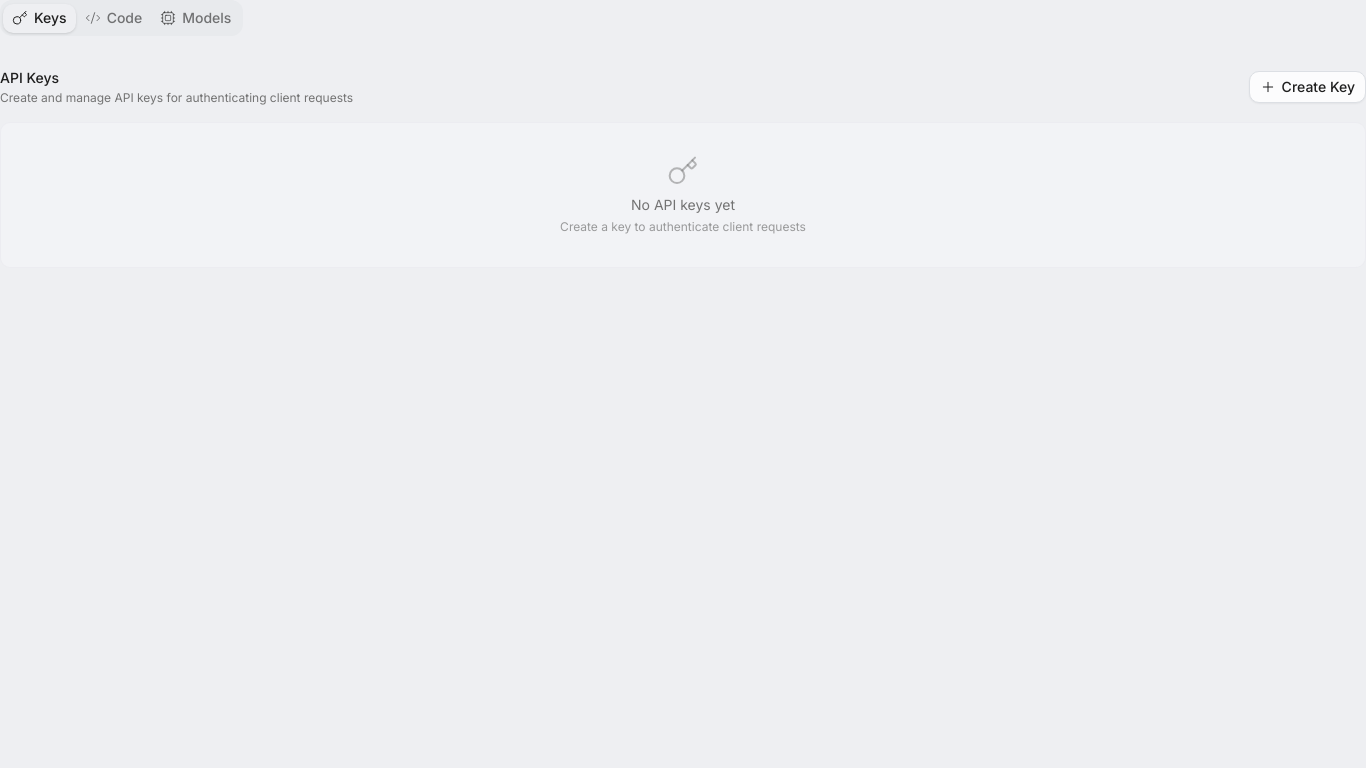
CreateKeyDialog › res.ok=false → shows actual error message from response
The width and height of the screenshot is (1366, 768).
Click the button "Create Key".
click(1307, 87)  # box [1249,71,1365,103]
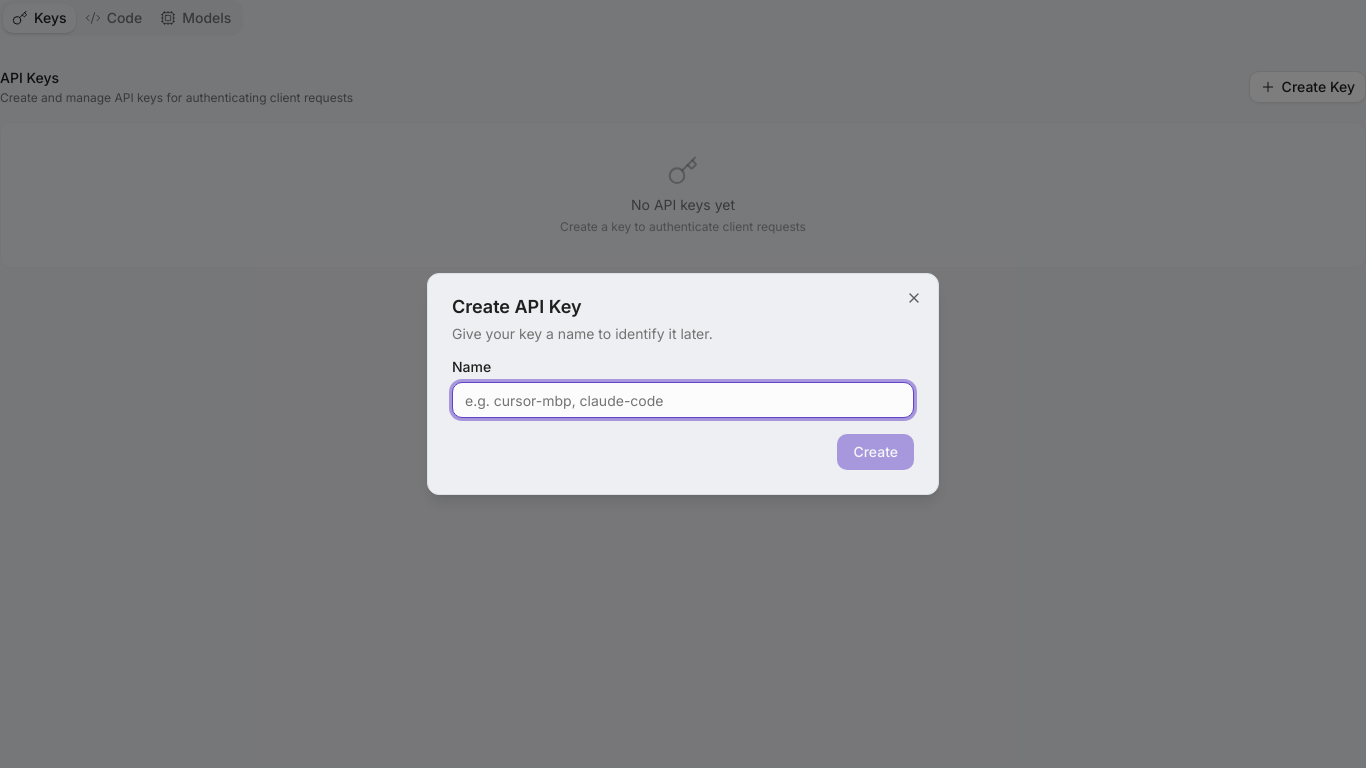
Type "dup-key" into the field with placeholder "e.g. cursor-mbp, claude-code".
click(683, 400); type("dup-key")  # box [452,382,914,418]
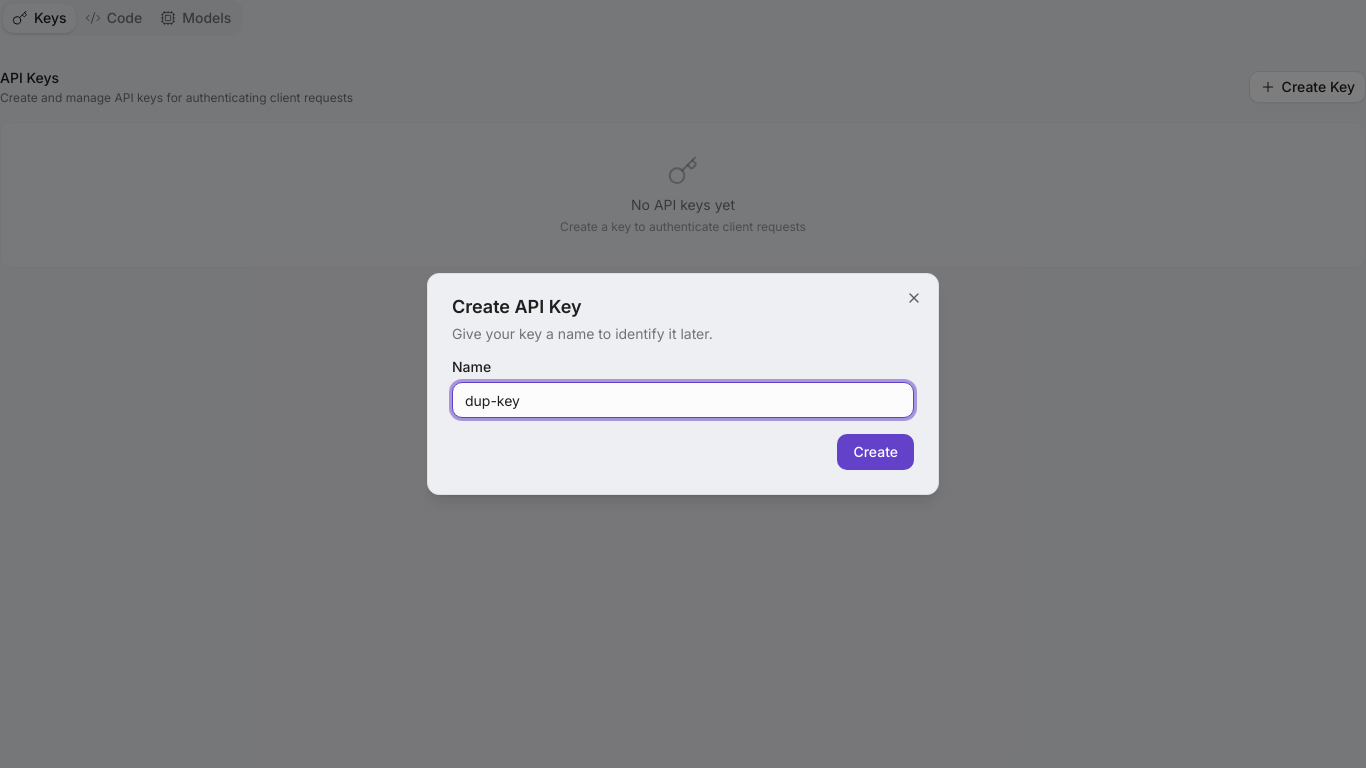
Click the button "Create".
click(876, 452)  # box [837,434,914,470]
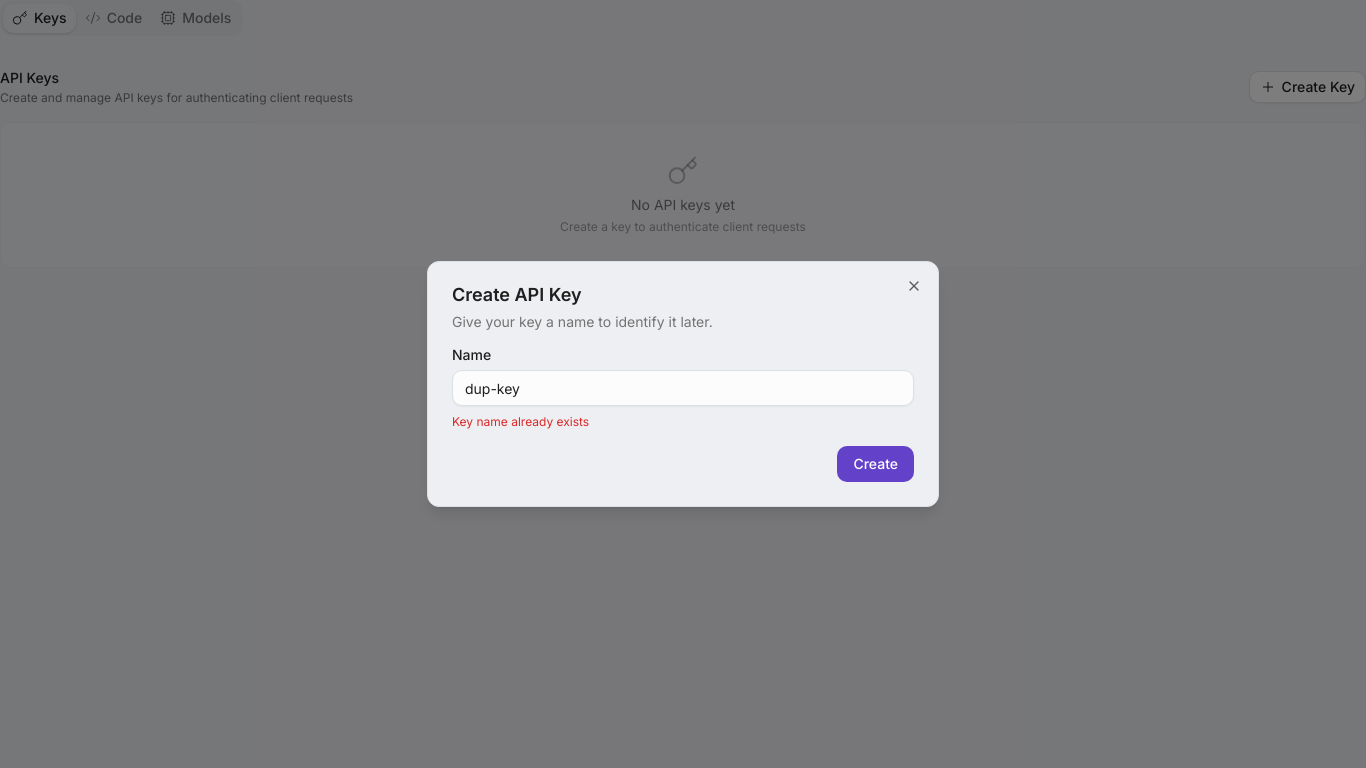
Result: the text "Key name already exists" is shown at [452,414,589,429]
